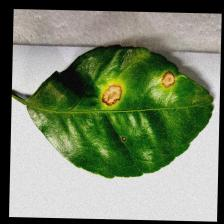canker: (88, 60, 183, 108)
